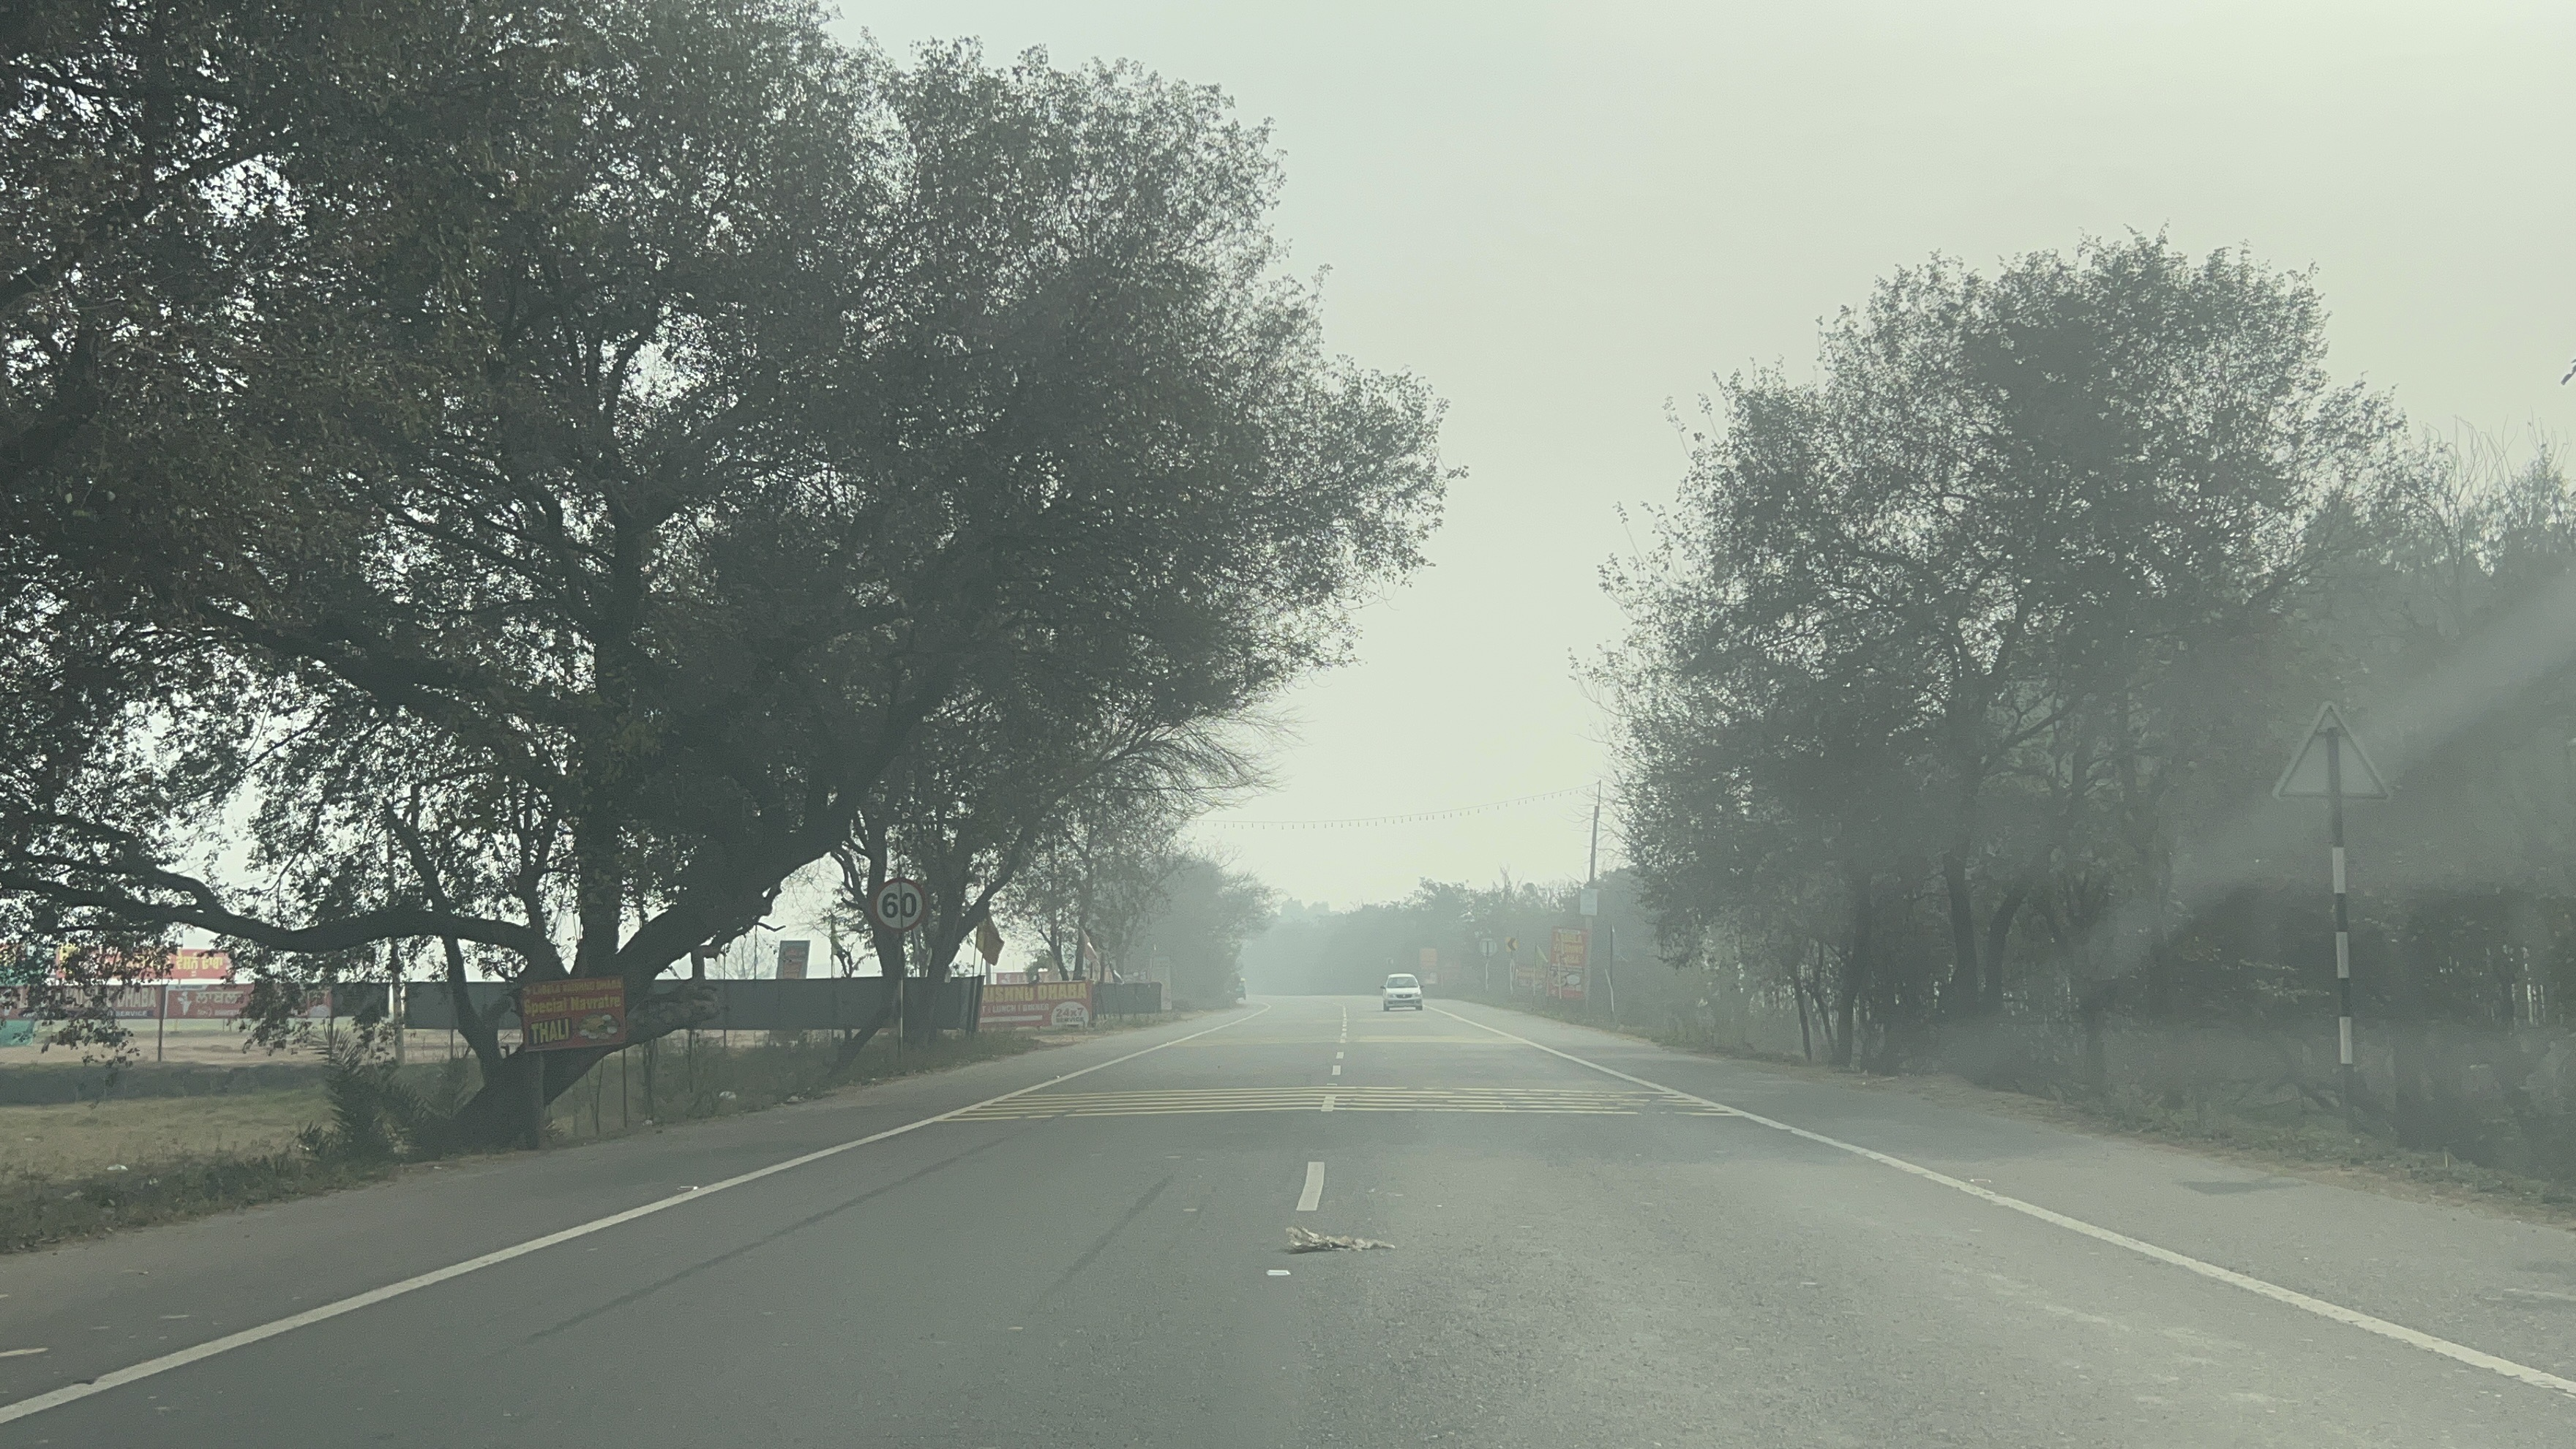Mandatory: (863, 870, 936, 938)
